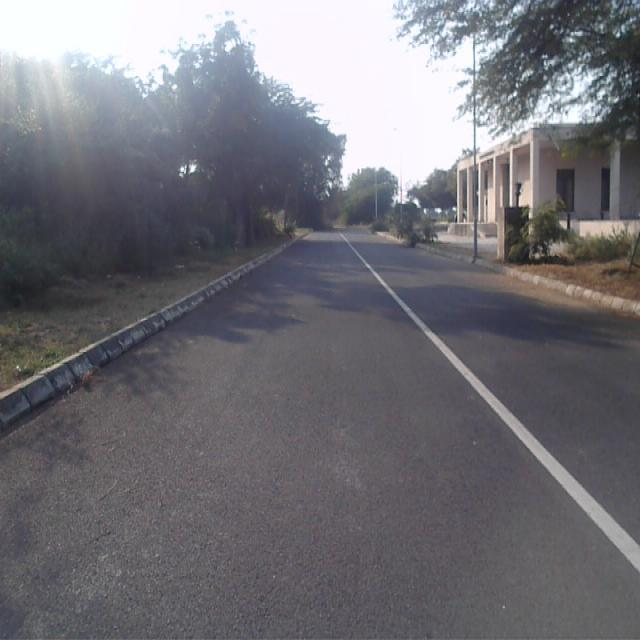lane: (0, 232, 640, 640)
